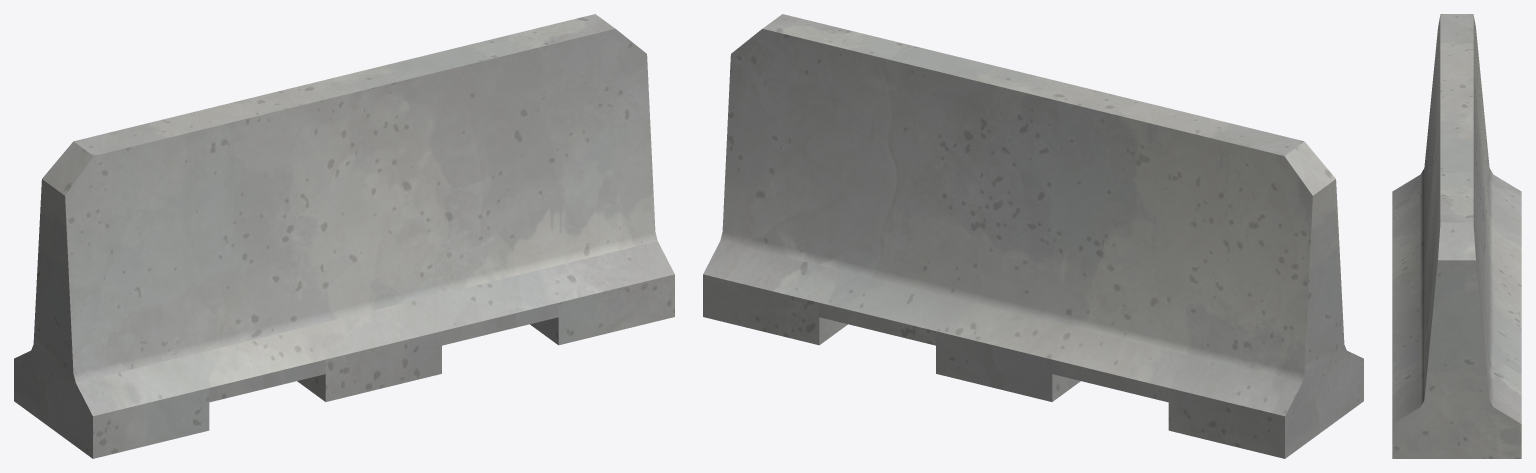
File: Baricade.fbx
3 renders of one model, left to right at view 1: azimuth 30°, elevation 25°; view 2: azimuth 150°, elevation 25°; view 3: azimuth 270°, elevation 25°, orthographic. The views are drawn at different scales.
Visible parts, largest first — view 1: ShortBarricade_LOD0; view 2: ShortBarricade_LOD0; view 3: ShortBarricade_LOD0.
Part boxes in pixels (x1,y1,x2,y2): ShortBarricade_LOD0: (14,14,674,458); ShortBarricade_LOD0: (703,14,1363,458); ShortBarricade_LOD0: (1392,14,1521,458).
Size of what is drawn, in the model's own units: 2 by 0.9 by 0.4695.
